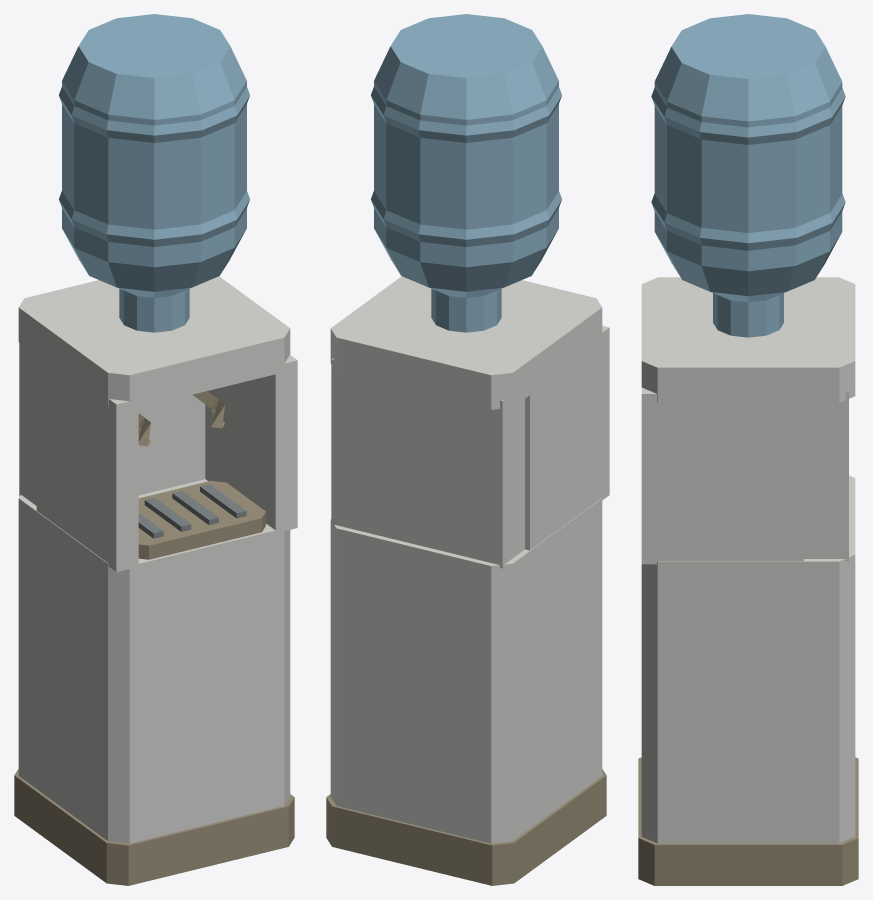
The model's file is water_cooler.glb.
3 renders of one model, left to right at view 1: azimuth 30°, elevation 25°; view 2: azimuth 150°, elevation 25°; view 3: azimuth 270°, elevation 25°, orthographic.
Visible parts, largest first — view 1: Cuerpo inferior, Garrafón, Techo, Lateral bahía, Base, Lateral bahía.001, Trasera bahía, Bandeja, Nervio botella.001, Nervio botella, Rejilla.001, Rejilla.002 (+2 smaller); view 2: Cuerpo inferior, Garrafón, Trasera bahía, Techo, Lateral bahía, Base, Nervio botella.001, Nervio botella; view 3: Cuerpo inferior, Garrafón, Lateral bahía.001, Techo, Base, Trasera bahía, Nervio botella.001, Nervio botella.
Boxes of the visible parts, <box> form: Cuerpo inferior: <box>18,479,290,843</box>; Garrafón: <box>62,14,246,332</box>; Techo: <box>18,276,290,409</box>; Lateral bahía: <box>36,355,138,571</box>; Base: <box>14,769,294,885</box>; Lateral bahía.001: <box>205,355,297,530</box>; Trasera bahía: <box>19,343,205,505</box>; Bandeja: <box>138,481,265,559</box>; Nervio botella.001: <box>59,87,249,142</box>; Nervio botella: <box>58,191,249,246</box>; Rejilla.001: <box>144,497,191,531</box>; Rejilla.002: <box>172,491,218,525</box>; Cuerpo inferior: <box>330,498,602,843</box>; Garrafón: <box>374,14,558,332</box>; Trasera bahía: <box>331,358,524,568</box>; Techo: <box>330,276,602,409</box>; Lateral bahía: <box>525,325,609,550</box>; Base: <box>326,769,606,885</box>; Nervio botella.001: <box>371,87,561,142</box>; Nervio botella: <box>370,191,561,246</box>; Cuerpo inferior: <box>641,475,855,843</box>; Garrafón: <box>654,14,842,337</box>; Lateral bahía.001: <box>641,387,803,564</box>; Techo: <box>641,277,855,402</box>; Base: <box>638,757,858,885</box>; Trasera bahía: <box>803,390,848,561</box>; Nervio botella.001: <box>651,88,845,144</box>; Nervio botella: <box>651,194,845,250</box>.
Bounding box in the file's own units: 0.34 × 1.35 × 0.34.
